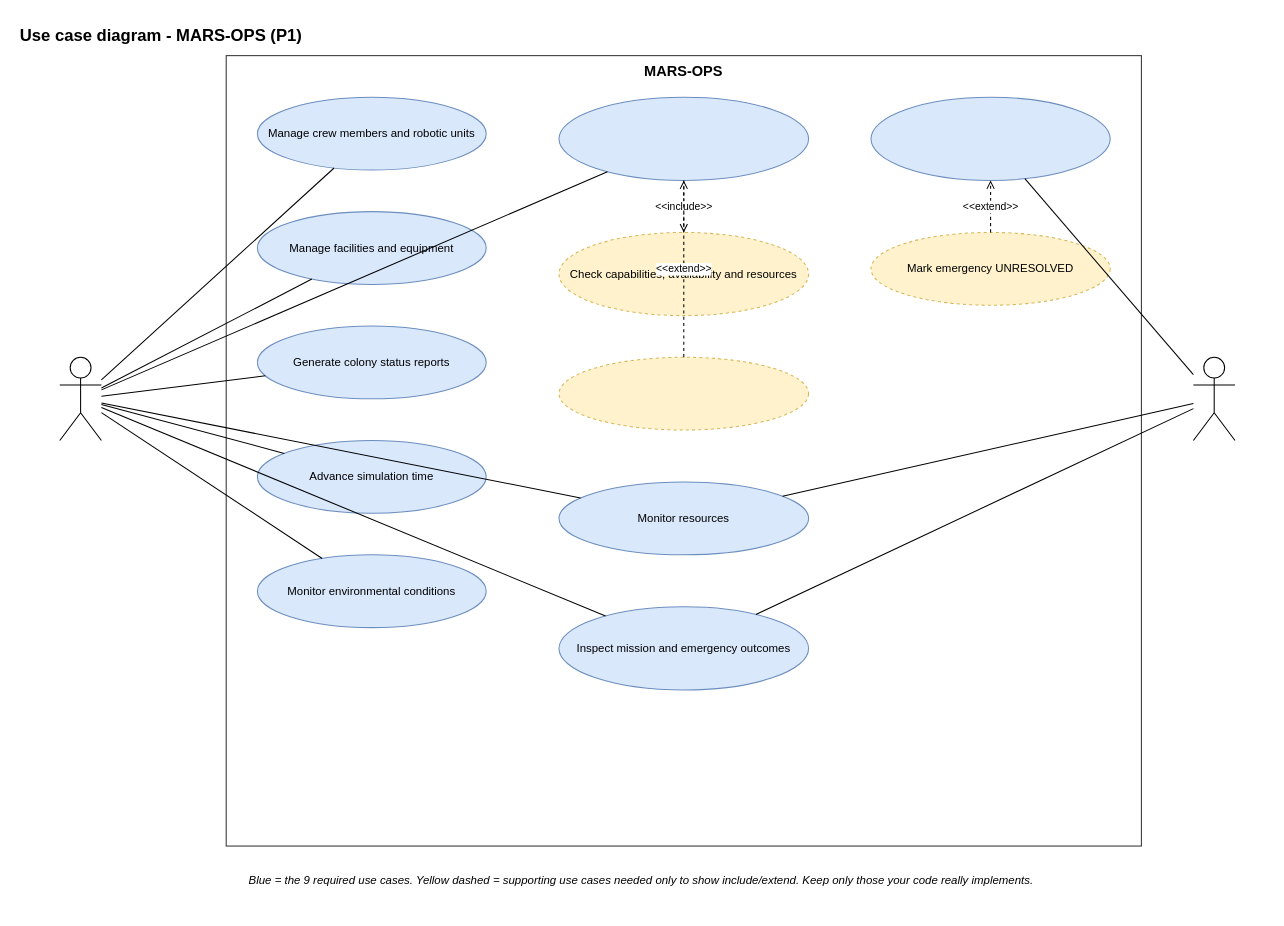
The diagram is 1284 pixels wide and 926 high, and some of its shapes have lost their labels. The centre of each missing label's shape, as x and y in pixels:
"Colony Operator" goes at point (80, 398).
"Emergency Operator" goes at point (1213, 398).
"Reject mission with reason" goes at point (683, 393).
"Submit, assign, execute and monitor missions" goes at point (683, 138).
"Trigger and handle emergencies" goes at point (990, 138).
